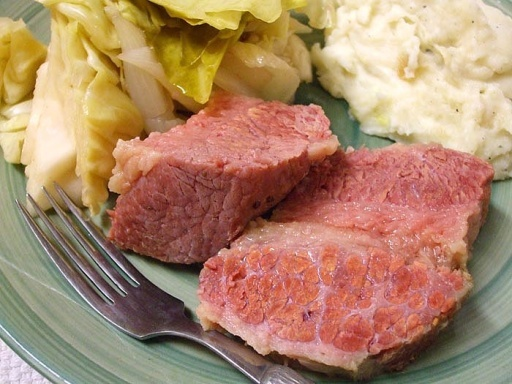background: (0, 0, 410, 229)
